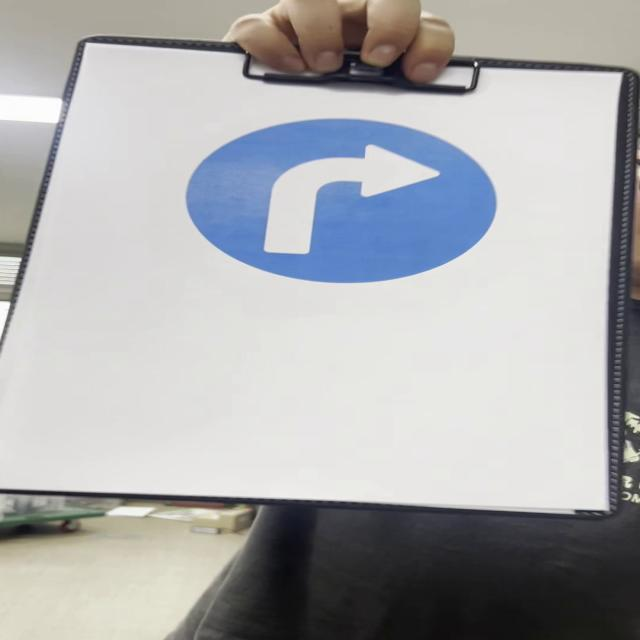right: (192, 121, 499, 284)
